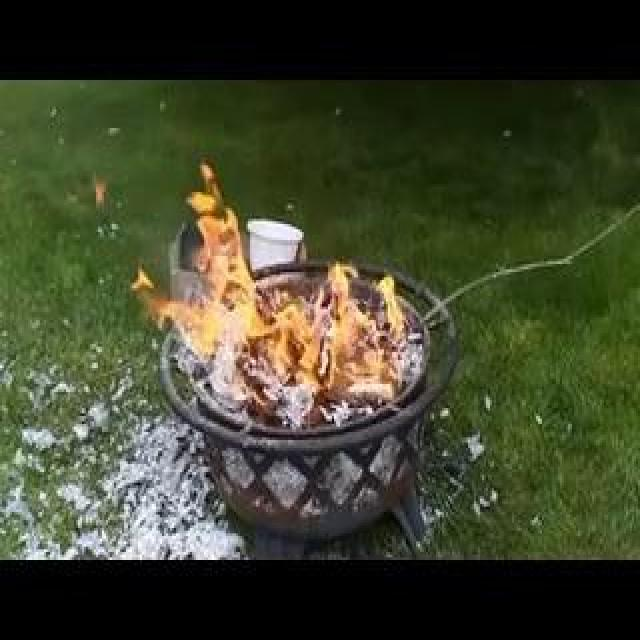Fire: (264, 272, 287, 286)
